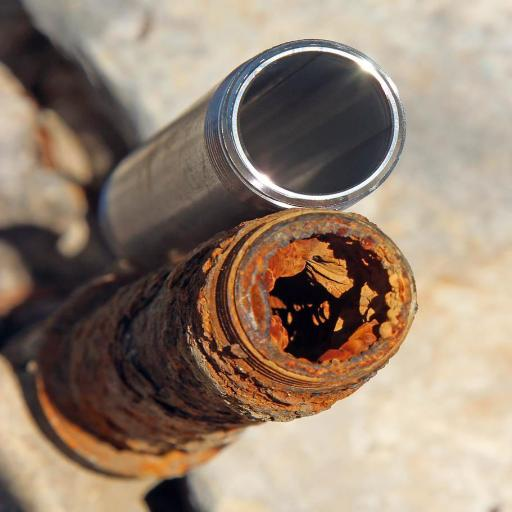segmentation: (20, 210, 416, 478)
